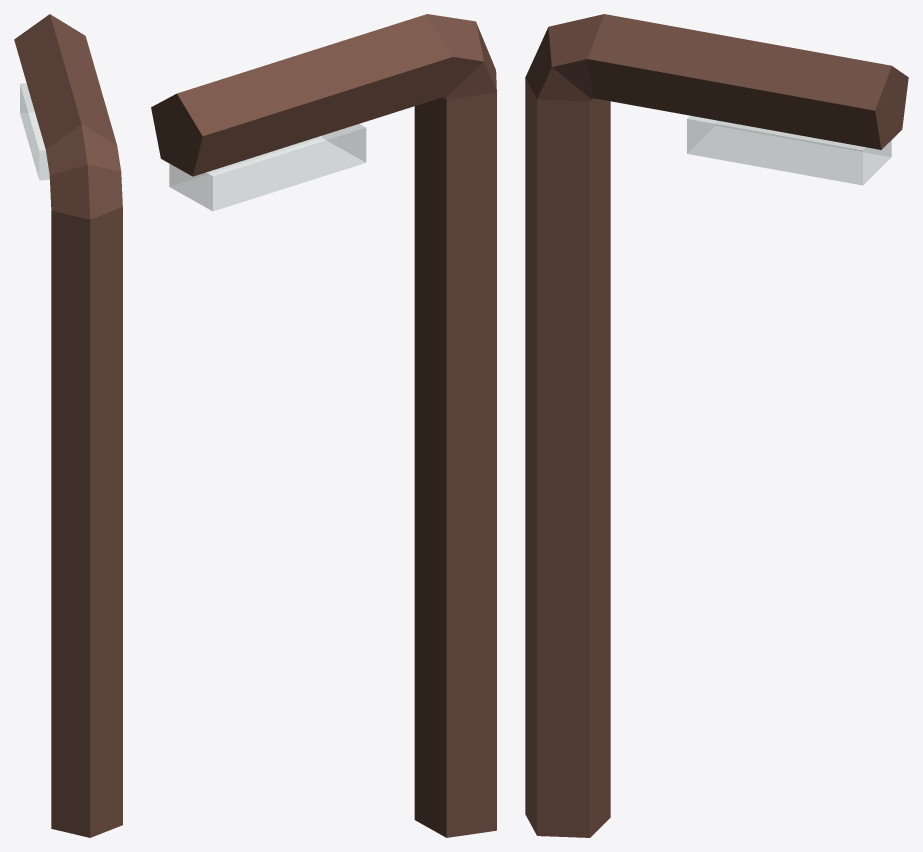
Rendered from model-triangulated.obj.
3 renders of one model, left to right at view 1: azimuth 30°, elevation 25°; view 2: azimuth 150°, elevation 25°; view 3: azimuth 270°, elevation 25°, orthographic. The views are drawn at different scales.
Parts seen in each view (by area): view 1: group535024760, group1088580684; view 2: group535024760, group1088580684; view 3: group535024760, group1088580684.
Boxes of the visible parts, x1,y1,x2,y2 form: group535024760: (14,14,122,837); group1088580684: (20,83,49,180); group535024760: (151,14,496,837); group1088580684: (169,124,366,211); group535024760: (525,14,908,837); group1088580684: (687,115,891,185).
Size of the model in its own units: 0.1728 by 0.6966 by 0.2973.
